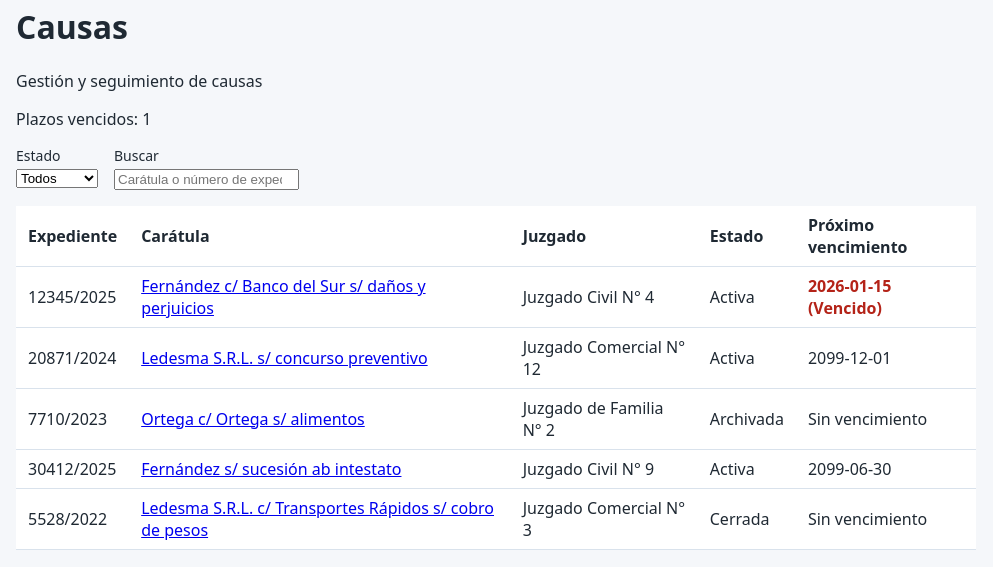
Test case: App › filters the list by text
In the search field labelled "Buscar": (206, 179) x1=114 y1=169 x2=299 y2=190, type "alimentos"
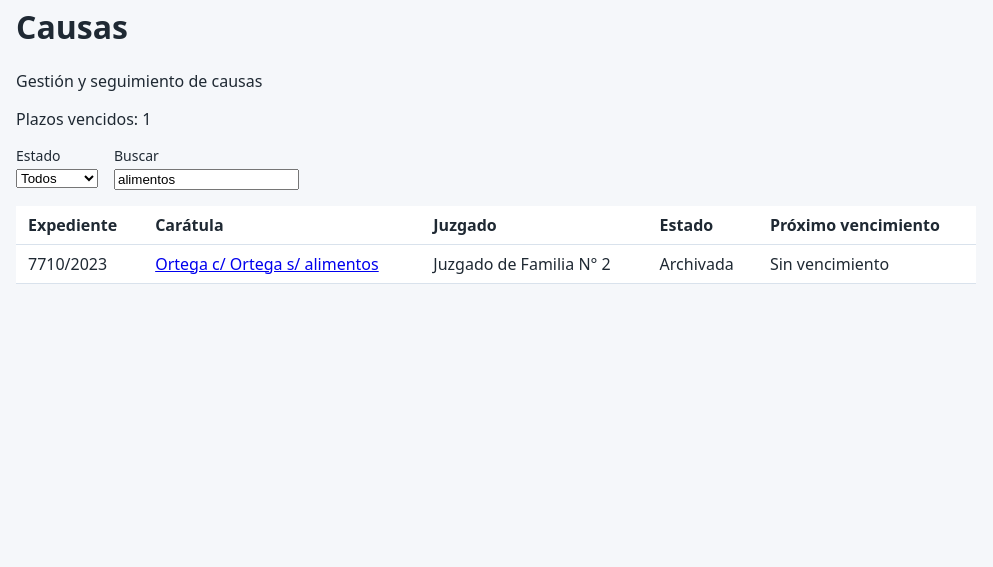
Check: the number of rows is 2, box x1=16 y1=206 x2=976 y2=244; x1=16 y1=244 x2=976 y2=283
